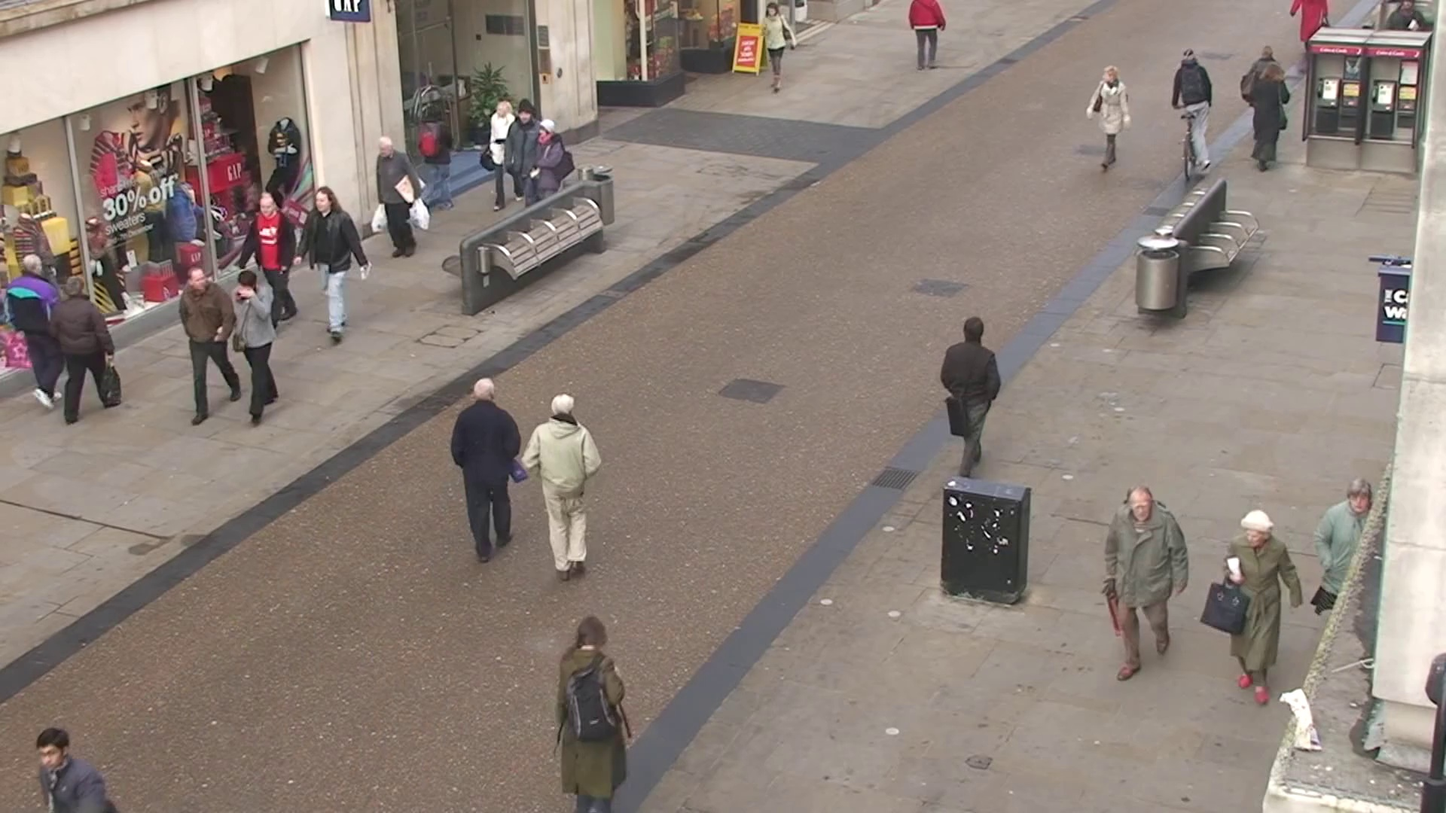person: (1287, 477, 1383, 752), (1103, 486, 1191, 680), (555, 614, 633, 809), (523, 391, 602, 577), (1228, 507, 1302, 695), (450, 379, 524, 565), (178, 258, 244, 425), (302, 186, 370, 346), (50, 277, 120, 424), (939, 317, 1002, 480), (1310, 481, 1376, 612), (230, 266, 282, 425), (5, 277, 63, 407), (249, 186, 301, 327), (35, 727, 118, 813), (1240, 47, 1292, 172), (1170, 47, 1214, 173), (1091, 64, 1133, 173), (529, 120, 576, 202), (486, 98, 519, 209), (383, 170, 420, 257), (908, 0, 946, 70)
